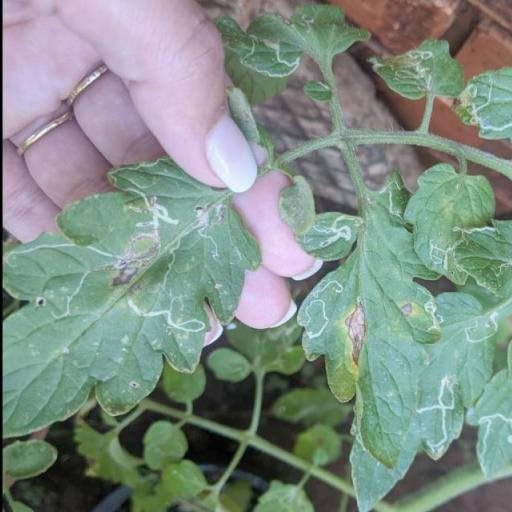Leaf Miner: (0, 160, 260, 440), (293, 212, 361, 262)
